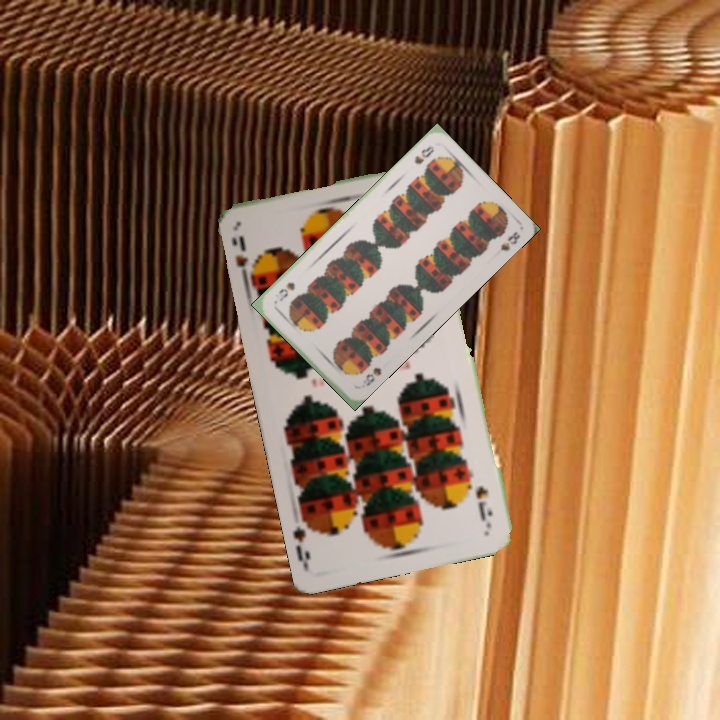S8: (410, 142, 437, 167), (359, 363, 384, 389)
S9: (231, 231, 262, 285), (472, 481, 496, 519)
